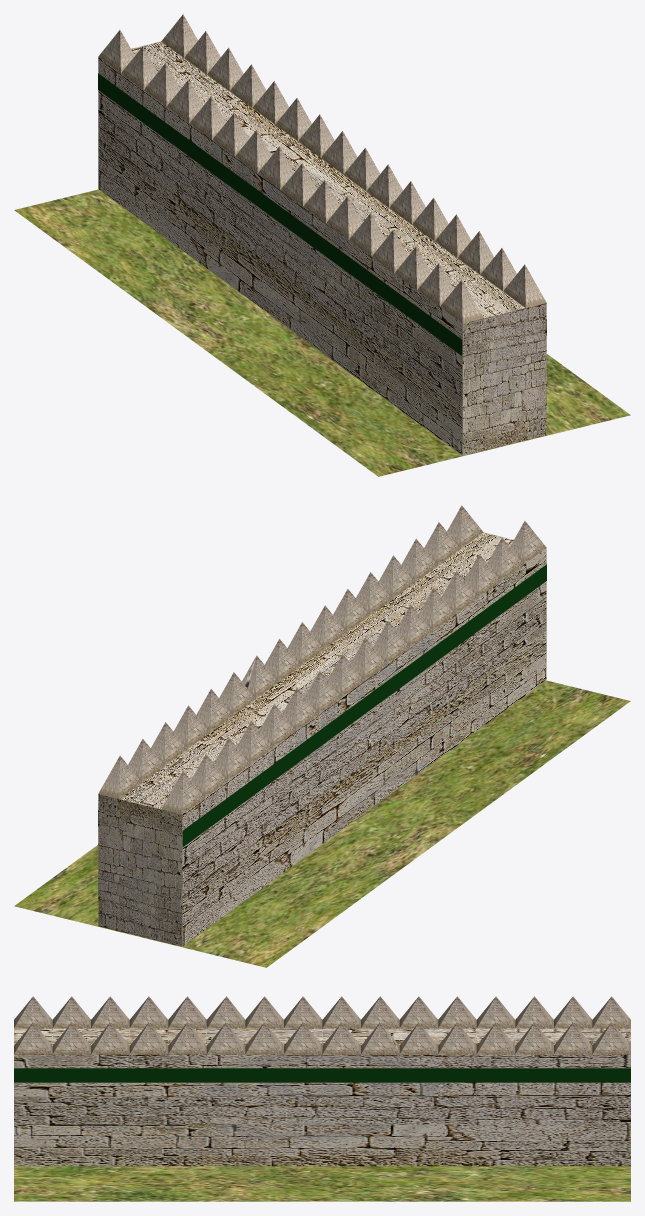
File: Elf-Wall.fbx
3 views of the same model, one above another, from view 1: azimuth 30°, elevation 25°; view 2: azimuth 150°, elevation 25°; view 3: azimuth 270°, elevation 25° (orthographic). The views are drawn at different scales.
Visible parts, largest first — view 1: Muralla_Paredes, Suelo, Muralla_Triangulos, Muralla_Bandera; view 2: Muralla_Paredes, Suelo, Muralla_Triangulos, Muralla_Bandera; view 3: Muralla_Paredes, Muralla_Triangulos, Suelo, Muralla_Bandera.
Part boxes in pixels (x1,y1,x2,y2): Muralla_Paredes: (98,41,546,455); Suelo: (14,189,630,476); Muralla_Triangulos: (98,14,546,323); Muralla_Bandera: (98,73,546,355); Muralla_Paredes: (98,532,546,946); Suelo: (14,680,630,967); Muralla_Triangulos: (98,505,546,814); Muralla_Bandera: (98,564,546,846); Muralla_Paredes: (14,1028,630,1166); Muralla_Triangulos: (14,996,630,1054); Suelo: (14,1166,630,1201); Muralla_Bandera: (14,1068,630,1082).
Size of the model in its own units: 600 by 376 by 1500.
